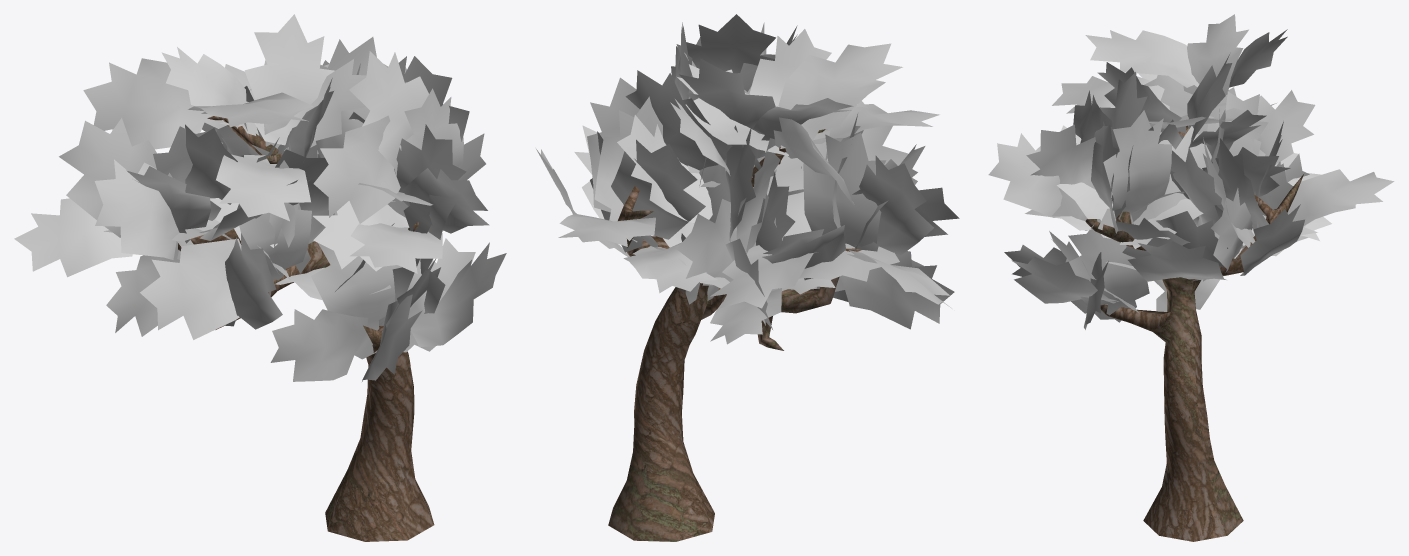
The model's file is tree1.fbx.
The picture shows the model from 3 angles, left to right: view 1: azimuth 30°, elevation 25°; view 2: azimuth 150°, elevation 25°; view 3: azimuth 270°, elevation 25°; orthographic projection. The views are drawn at different scales.
Visible parts, largest first — view 1: Tree1; view 2: Tree1; view 3: Tree1.
Part boxes in pixels (bbox=[...]): Tree1: bbox=[14, 14, 506, 541]; Tree1: bbox=[536, 14, 959, 541]; Tree1: bbox=[988, 14, 1394, 541].
Size of the model in its own units: 9034 by 10414 by 8876.
